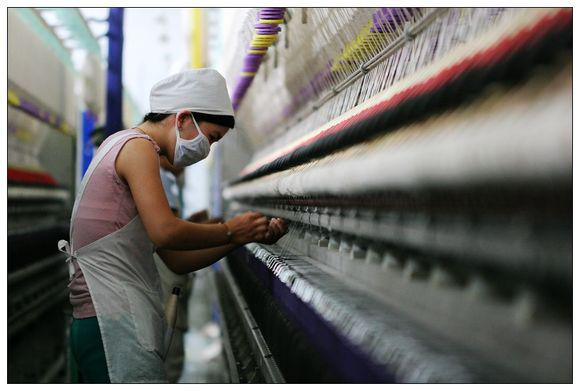OK: (172, 116, 226, 175)
